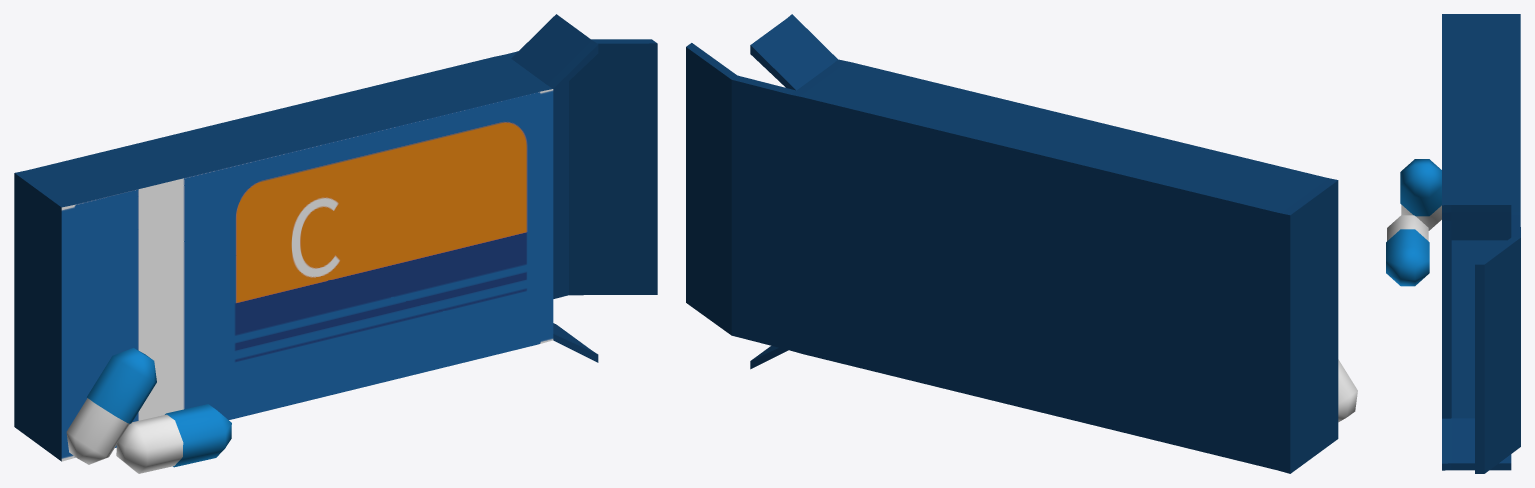
File: Clozapina.fbx
3 views of the same model, side by side, from view 1: azimuth 30°, elevation 25°; view 2: azimuth 150°, elevation 25°; view 3: azimuth 270°, elevation 25° (orthographic). The views are drawn at different scales.
Visible parts, largest first — view 1: pCube2, pasted__pCube2, pasted__pasted__pCube1; view 2: pCube2, pasted__pCube2; view 3: pCube2, pasted__pasted__pCube1, pasted__pCube2.
Boxes of the visible parts, x1,y1,x2,y2 form: pCube2: (14, 14, 657, 461); pasted__pCube2: (66, 348, 156, 464); pasted__pasted__pCube1: (116, 404, 231, 473); pCube2: (686, 14, 1338, 473); pasted__pCube2: (1338, 359, 1357, 422); pCube2: (1442, 14, 1520, 473); pasted__pasted__pCube1: (1386, 215, 1429, 286); pasted__pCube2: (1400, 159, 1441, 230).
Size of the model in its own units: 6.49 by 3.19 by 1.47.
4 materials, 1 textured.
